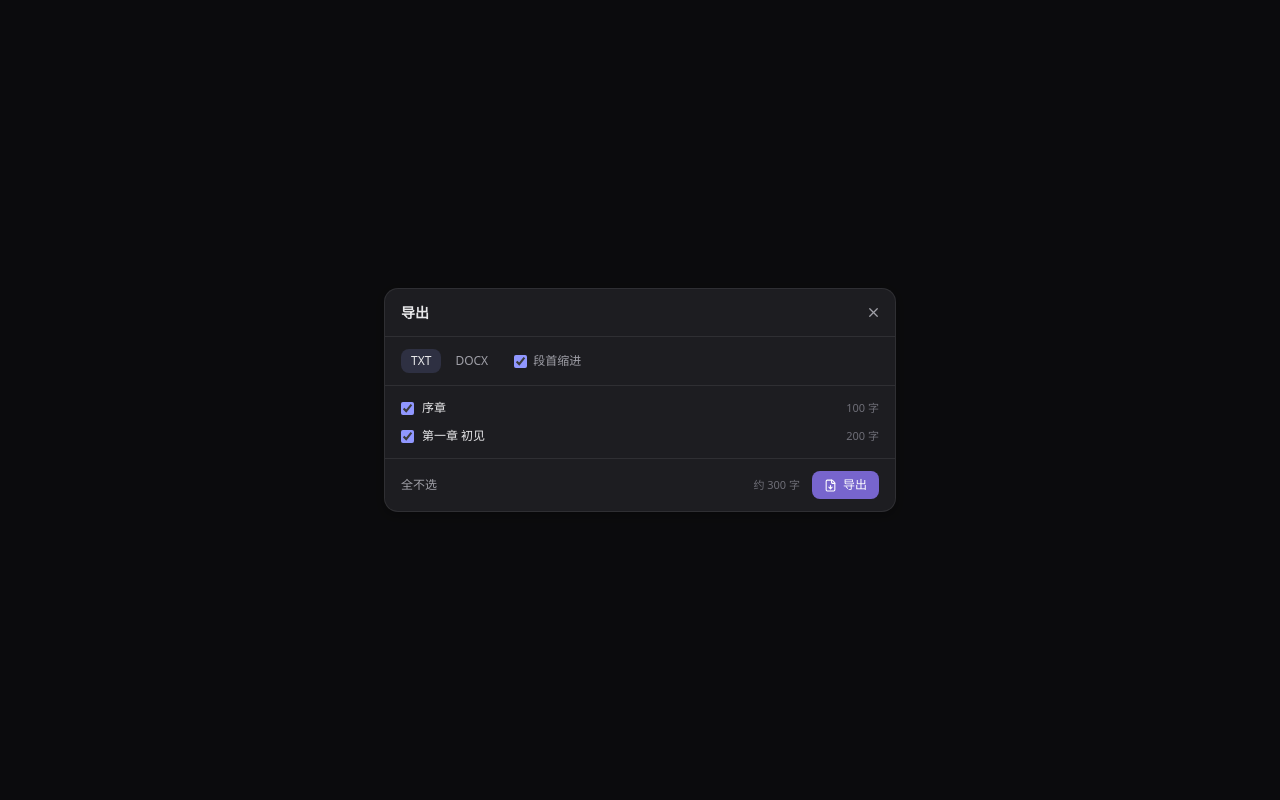
ExportDialog › txt 导出带上缩进开关与勾选的章
Click the button "导出" at (846, 485), box [812, 471, 879, 499]
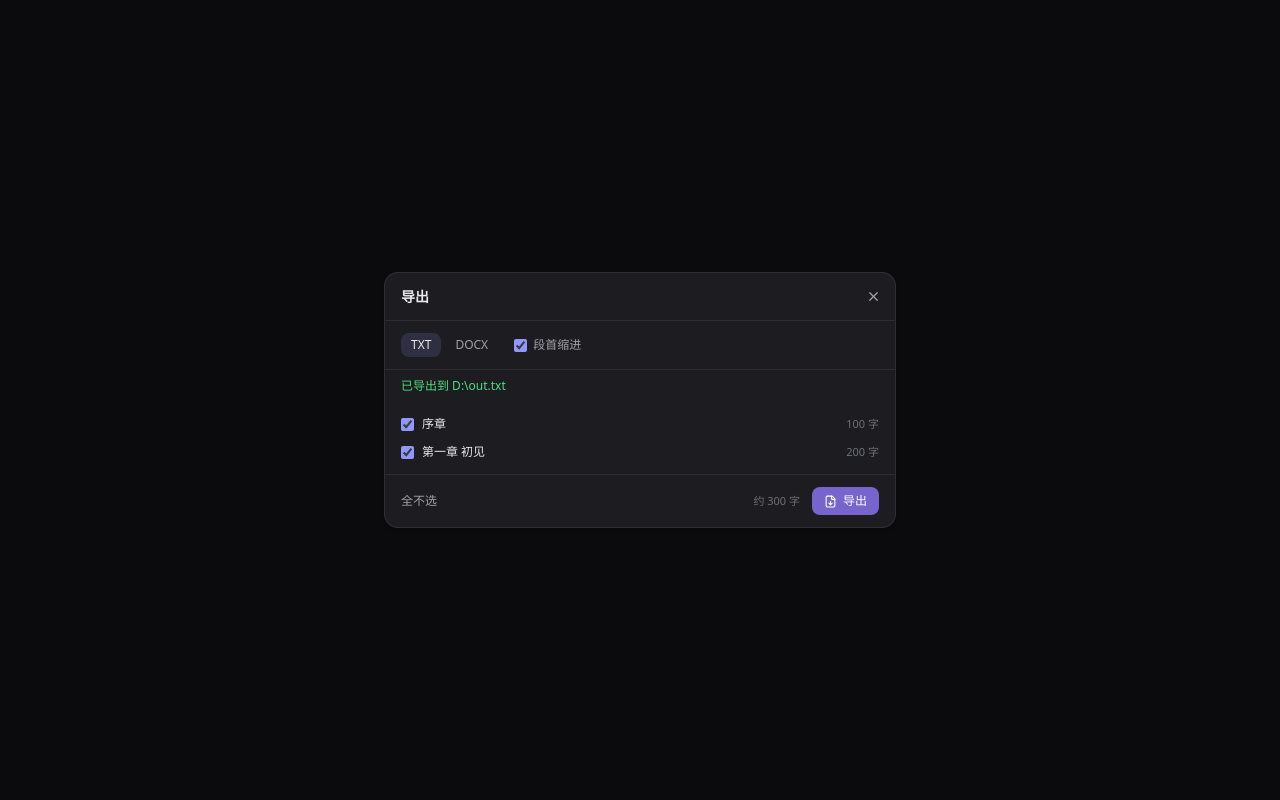
Now the text "已导出到 D:\\out.txt" is shown, box [401, 377, 506, 394]
